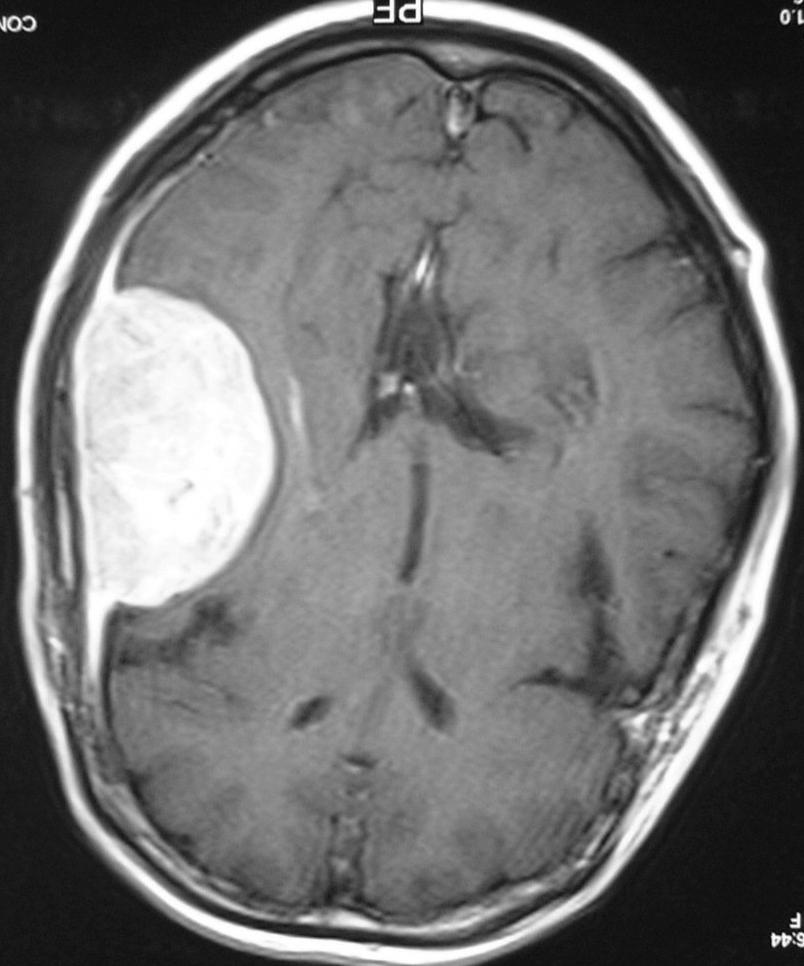Tumour-Meningioma: (35, 255, 372, 668)
